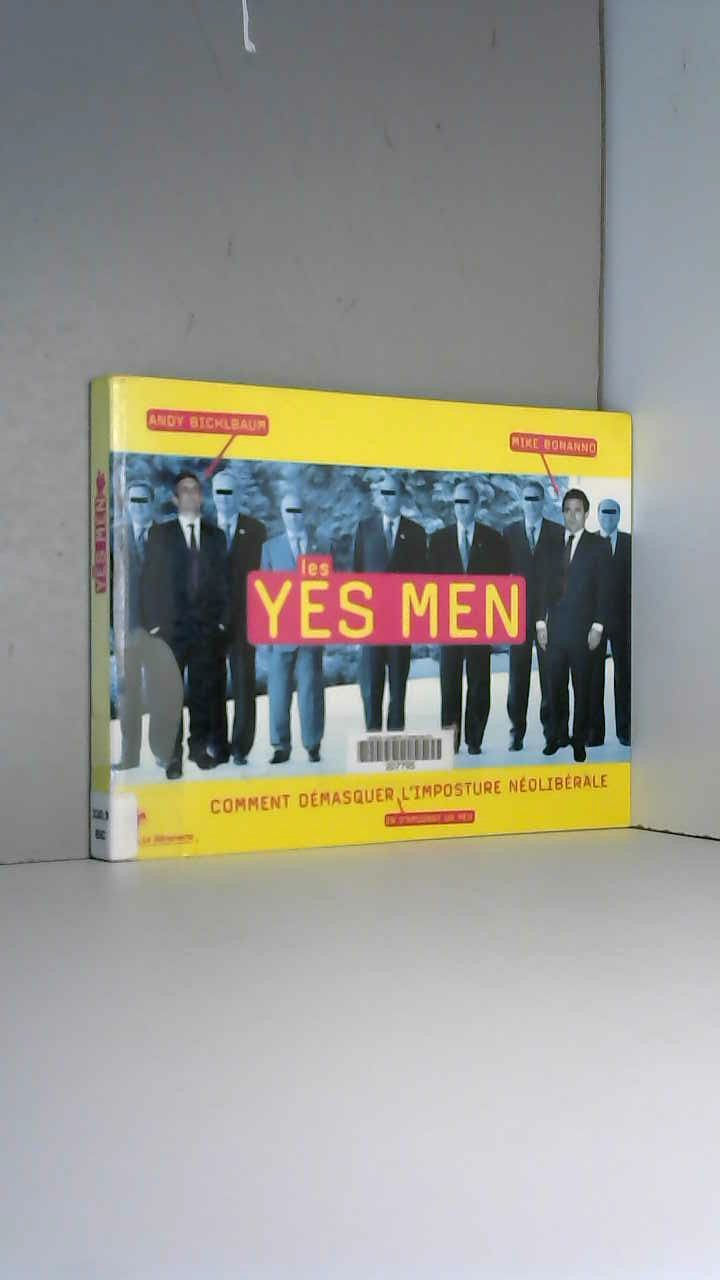book: (65, 357, 651, 876)
